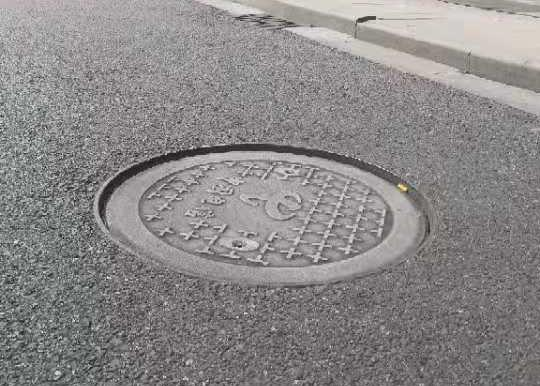good: (88, 132, 449, 304)
